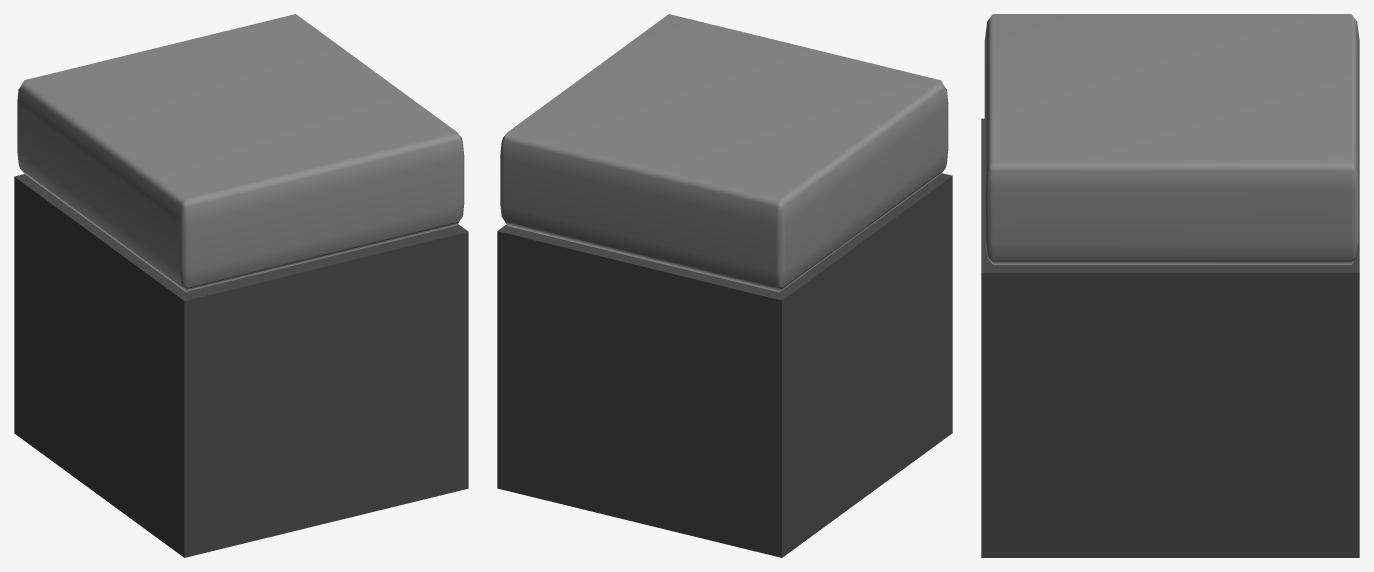
File: Orellian_Chair1.fbx
3 renders of one model, left to right at view 1: azimuth 30°, elevation 25°; view 2: azimuth 150°, elevation 25°; view 3: azimuth 270°, elevation 25°, orthographic. The views are drawn at different scales.
Visible parts, largest first — view 1: Orellian_Chair1; view 2: Orellian_Chair1; view 3: Orellian_Chair1.
Boxes of the visible parts, x1,y1,x2,y2 form: Orellian_Chair1: (14, 14, 468, 557); Orellian_Chair1: (497, 14, 952, 557); Orellian_Chair1: (981, 14, 1359, 557).
Bounding box in the file's own units: 1.16 × 1.38 × 1.2.
